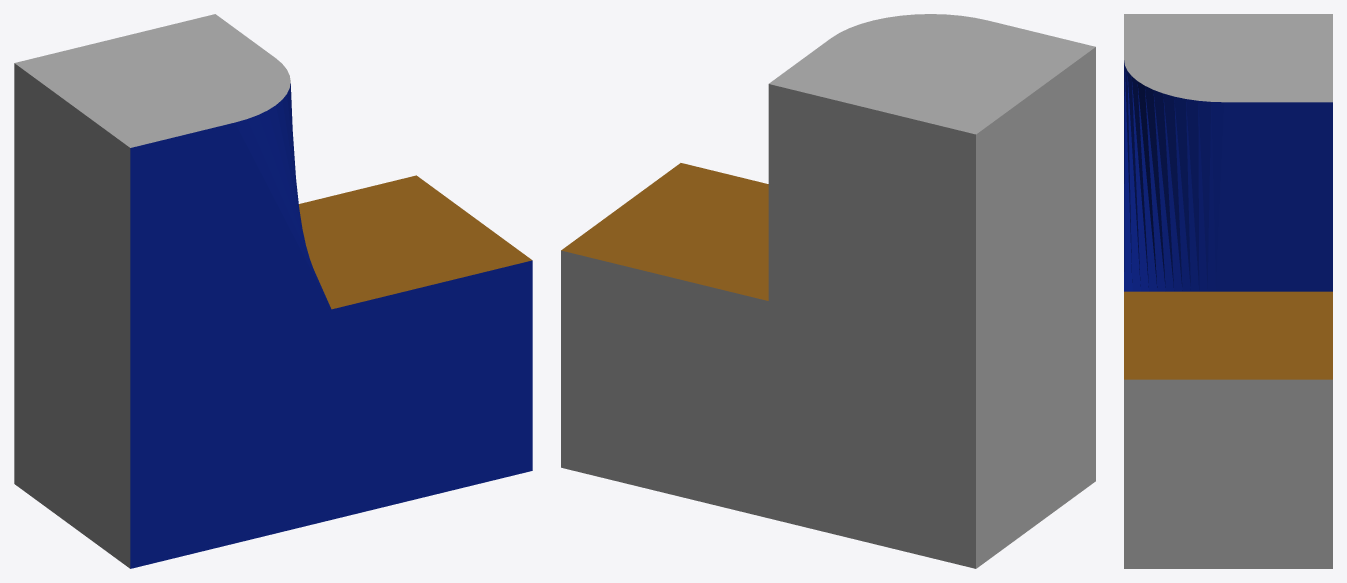
The model's file is case_19.fbx.
The picture shows the model from 3 angles, left to right: view 1: azimuth 30°, elevation 25°; view 2: azimuth 150°, elevation 25°; view 3: azimuth 270°, elevation 25°; orthographic projection. The views are drawn at different scales.
Visible parts, largest first — view 1: case_19; view 2: case_19; view 3: case_19.
Part boxes in pixels (box(x1,y1,x2,y2)): case_19: box(14, 14, 532, 568); case_19: box(561, 14, 1095, 568); case_19: box(1124, 14, 1332, 568).
Bounding box in the file's own units: 1 × 0.5 × 1.
